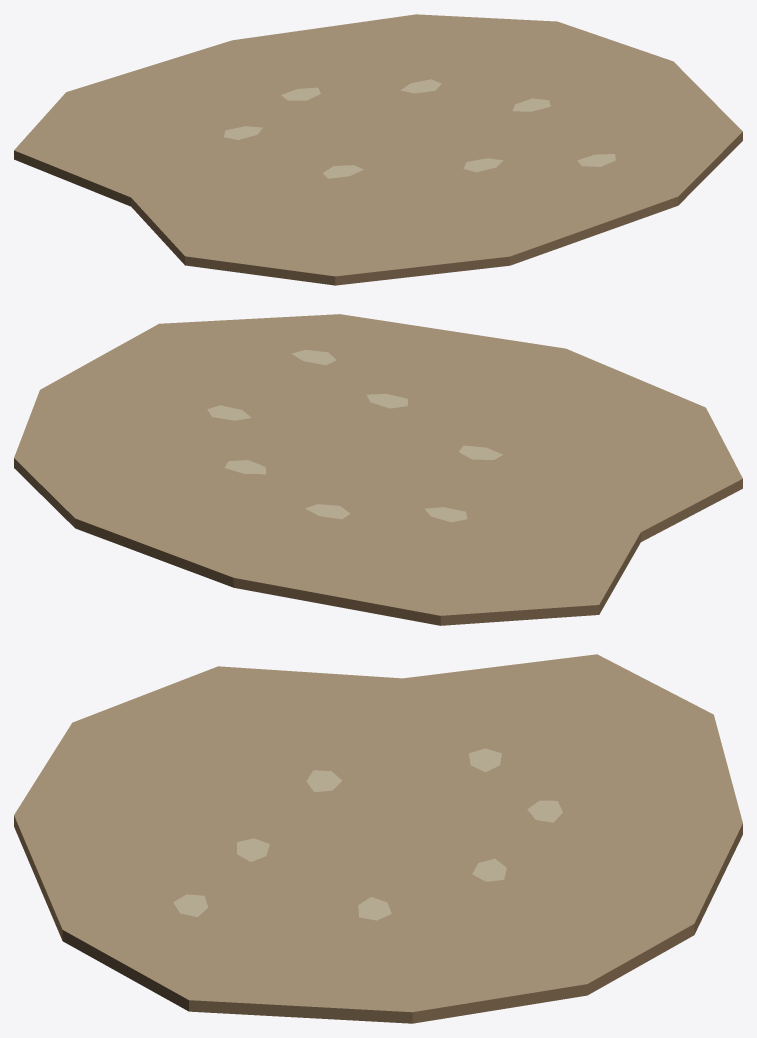
File: DeerHide.glb
The picture shows the model from 3 angles, top to bottom: view 1: azimuth 30°, elevation 25°; view 2: azimuth 150°, elevation 25°; view 3: azimuth 270°, elevation 25°; orthographic projection. The views are drawn at different scales.
Visible parts, largest first — view 1: DeerHide; view 2: DeerHide; view 3: DeerHide.
Part boxes in pixels (x1,y1,x2,y2): DeerHide: [14, 14, 742, 285]; DeerHide: [14, 314, 742, 625]; DeerHide: [14, 654, 742, 1023].
Bounding box in the file's own units: 1.67 × 0.04 × 1.44.
